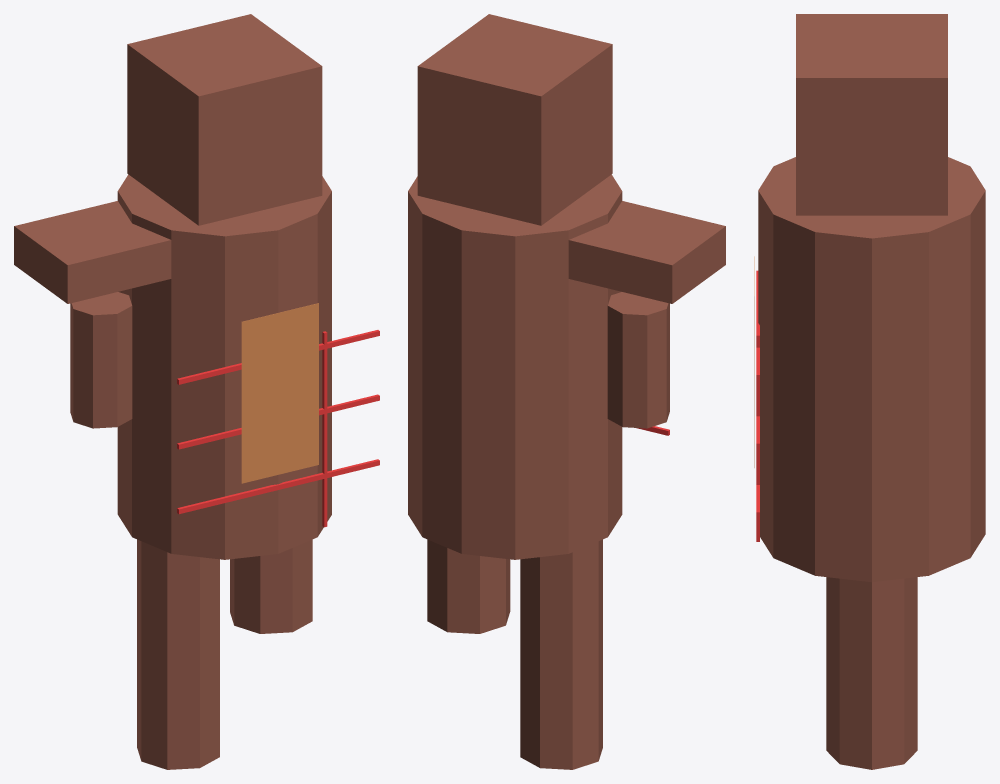
Rendered from fragmented_sentinel.glb.
The picture shows the model from 3 angles, left to right: view 1: azimuth 30°, elevation 25°; view 2: azimuth 150°, elevation 25°; view 3: azimuth 270°, elevation 25°; orthographic projection. The views are drawn at different scales.
Visible parts, largest first — view 1: Sentinel_Body, Sentinel_DataPattern, Sentinel_Glitch; view 2: Sentinel_Body; view 3: Sentinel_Body, Sentinel_Glitch.
Boxes of the visible parts, bbox=[...] form: Sentinel_Body: bbox=[14, 14, 331, 769]; Sentinel_DataPattern: bbox=[241, 303, 318, 483]; Sentinel_Glitch: bbox=[177, 330, 379, 527]; Sentinel_Body: bbox=[408, 14, 725, 769]; Sentinel_Body: bbox=[758, 14, 985, 769]; Sentinel_Glitch: bbox=[756, 270, 759, 541].
Size of the model in its own units: 0.92 by 2.12 by 0.6105.
